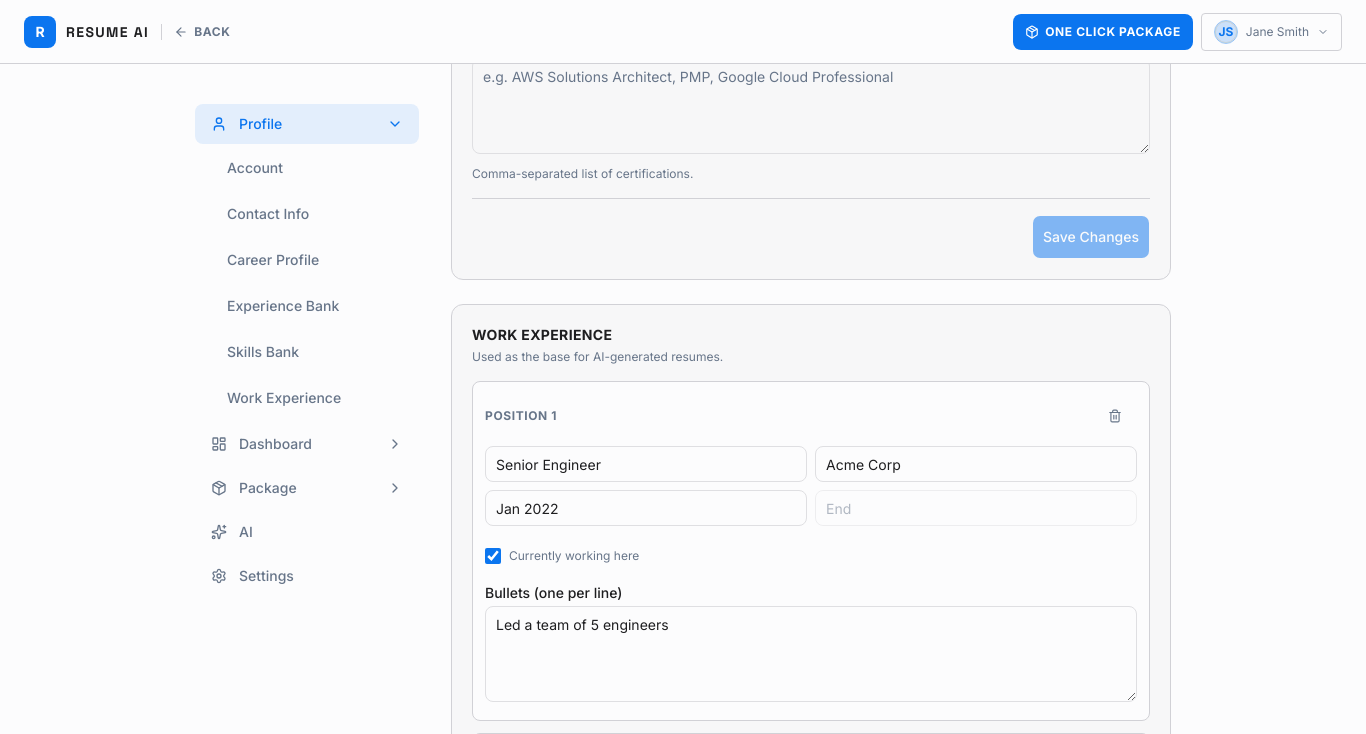
Profile — Personal Info & Experience (loaded with saved data) › removes an experience entry when the trash icon is clicked
(page scrolled)
Expected: the 2nd field showing "Acme Corp" is shown, [815,446,1137,482]
Click the button with class "lucide-trash-2" at (1115, 416), box [1093,394,1137,438]
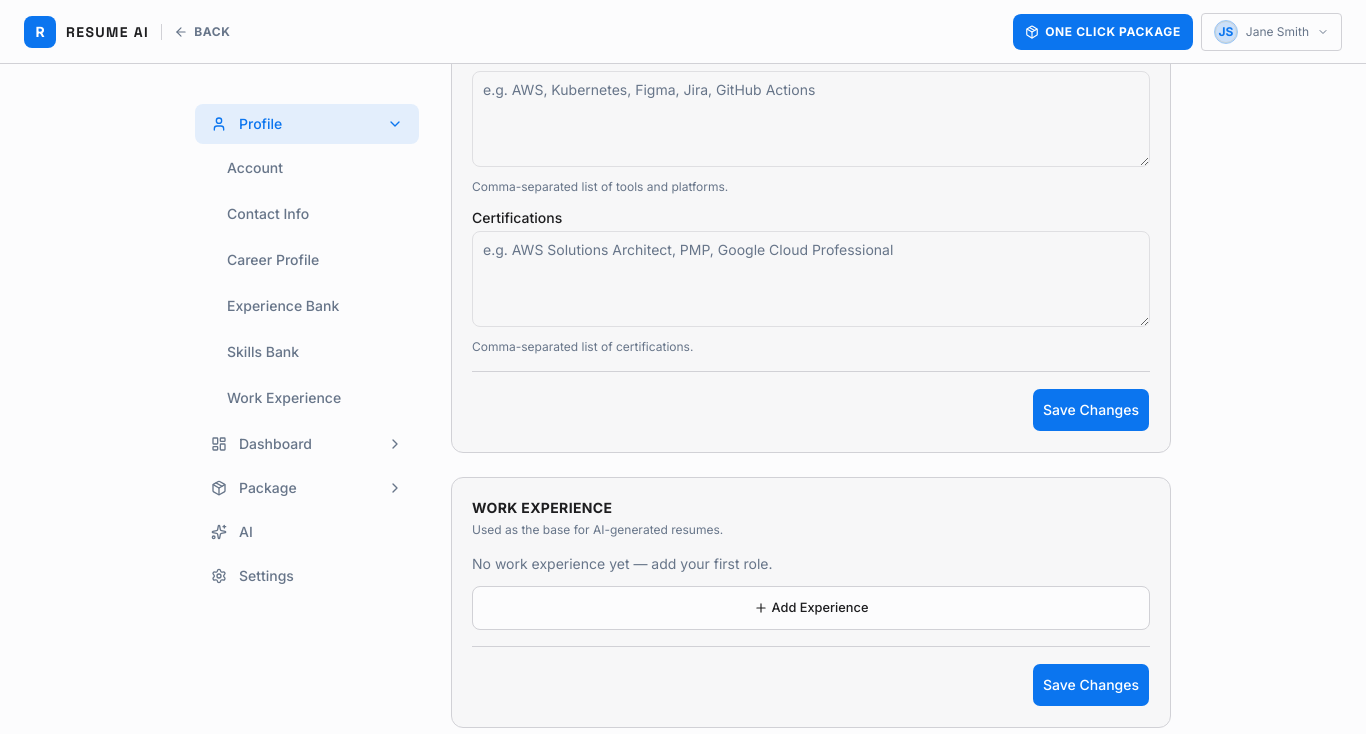
Expected: the field showing "Acme Corp" is not shown
Expected: the text "No work experience yet — add your first role." is shown, [472,555,772,572]
